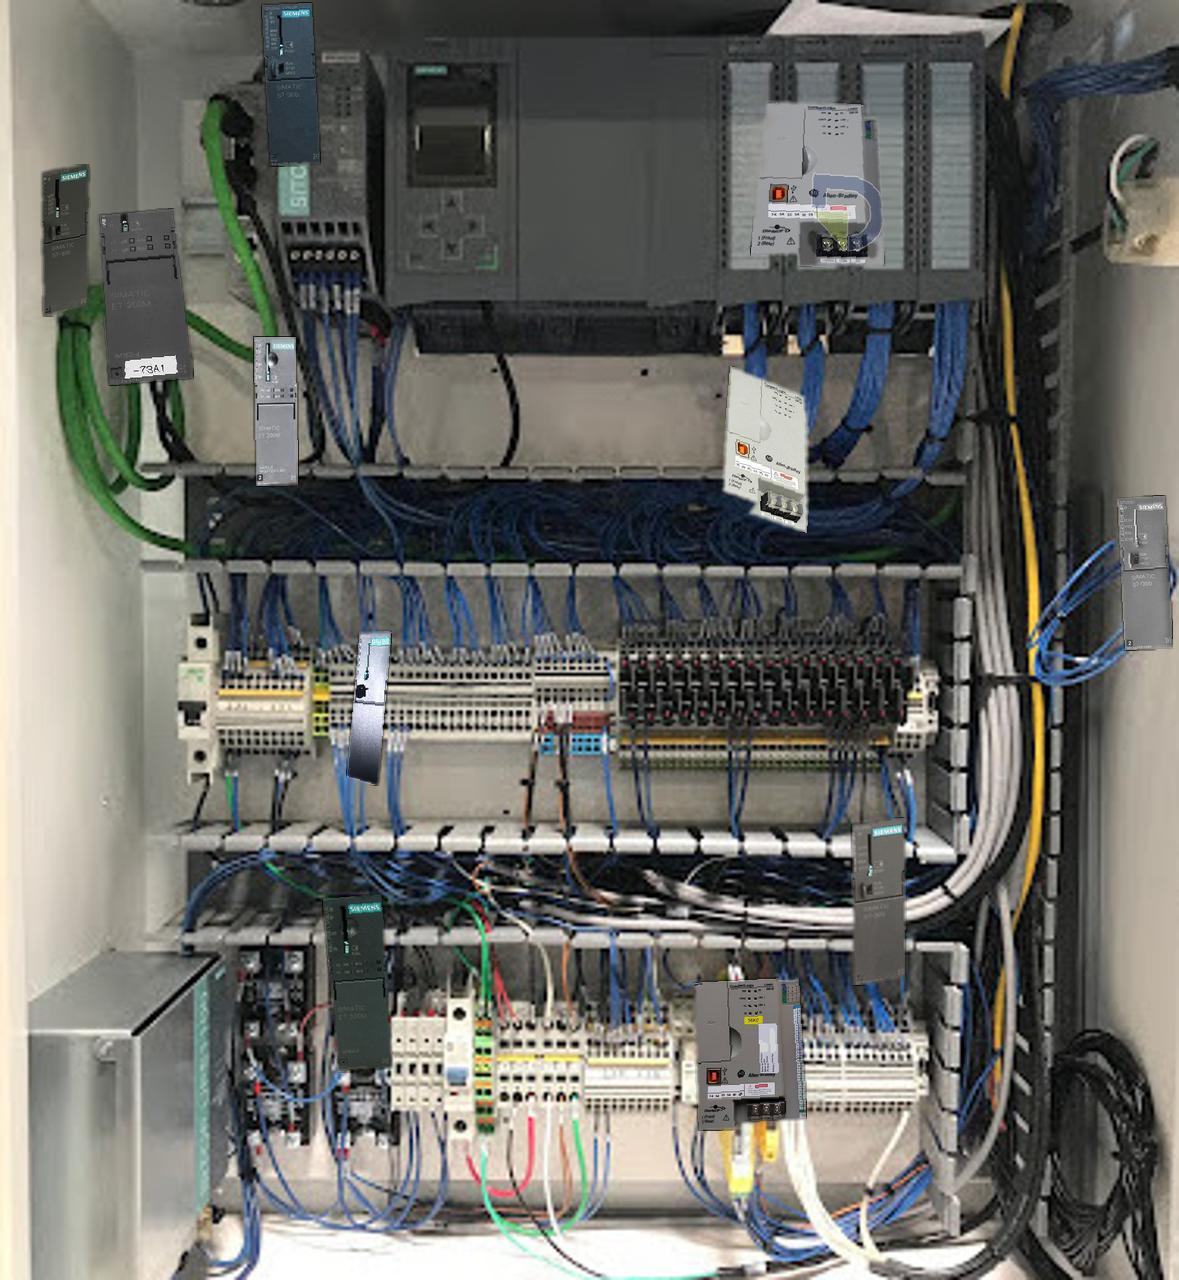AllenBradley: (751, 101, 883, 265), (694, 978, 805, 1129), (723, 366, 806, 532)
Siemens: (262, 3, 319, 165), (852, 818, 905, 985), (1118, 496, 1172, 649), (42, 164, 88, 316), (347, 632, 392, 784)
